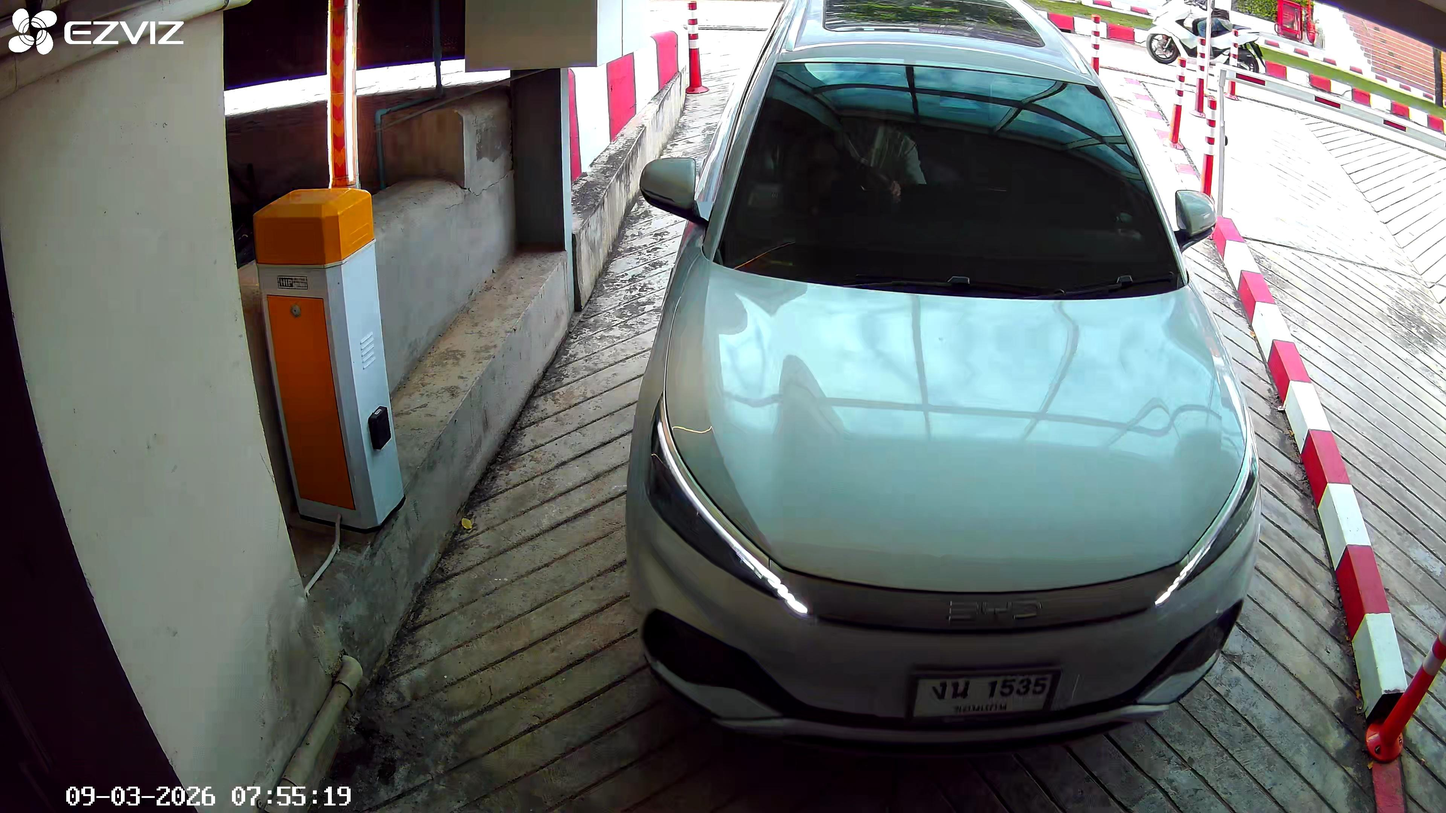car: (625, 5, 1260, 756)
license-plate: (904, 663, 1060, 723)
